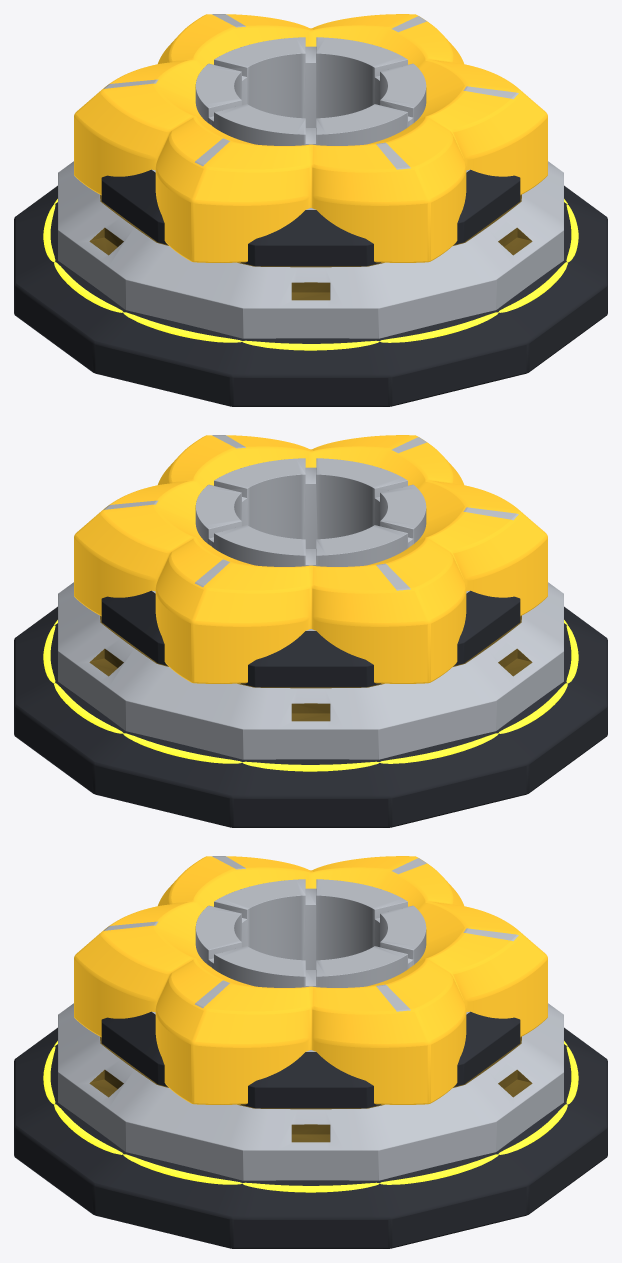
Rendered from turm.glb.
3 renders of one model, top to bottom at view 1: azimuth 30°, elevation 25°; view 2: azimuth 150°, elevation 25°; view 3: azimuth 270°, elevation 25°, orthographic.
Visible parts, largest first — view 1: Ratsche.002, Stufe, Stufe.001, Kern.002, Stufe.002, Stufenleuchte; view 2: Ratsche.002, Stufe, Stufe.001, Kern.002, Stufe.002, Stufenleuchte; view 3: Ratsche.002, Stufe, Stufe.001, Kern.002, Stufe.002, Stufenleuchte.
Boxes of the visible parts, x1=… form: Ratsche.002: x1=74, y1=14, x2=547, y2=262; Stufe: x1=14, y1=185, x2=607, y2=406; Stufe.001: x1=58, y1=161, x2=563, y2=338; Kern.002: x1=195, y1=37, x2=426, y2=145; Stufe.002: x1=101, y1=169, x2=520, y2=266; Stufenleuchte: x1=43, y1=199, x2=578, y2=350; Ratsche.002: x1=74, y1=435, x2=547, y2=683; Stufe: x1=14, y1=606, x2=607, y2=827; Stufe.001: x1=58, y1=582, x2=563, y2=759; Kern.002: x1=195, y1=458, x2=426, y2=566; Stufe.002: x1=101, y1=590, x2=520, y2=687; Stufenleuchte: x1=43, y1=620, x2=578, y2=771; Ratsche.002: x1=74, y1=856, x2=547, y2=1104; Stufe: x1=14, y1=1027, x2=607, y2=1248; Stufe.001: x1=58, y1=1003, x2=563, y2=1180; Kern.002: x1=195, y1=879, x2=426, y2=987; Stufe.002: x1=101, y1=1011, x2=520, y2=1108; Stufenleuchte: x1=43, y1=1041, x2=578, y2=1192.
Bounding box in the file's own units: 0.34 × 0.1246 × 0.34.
